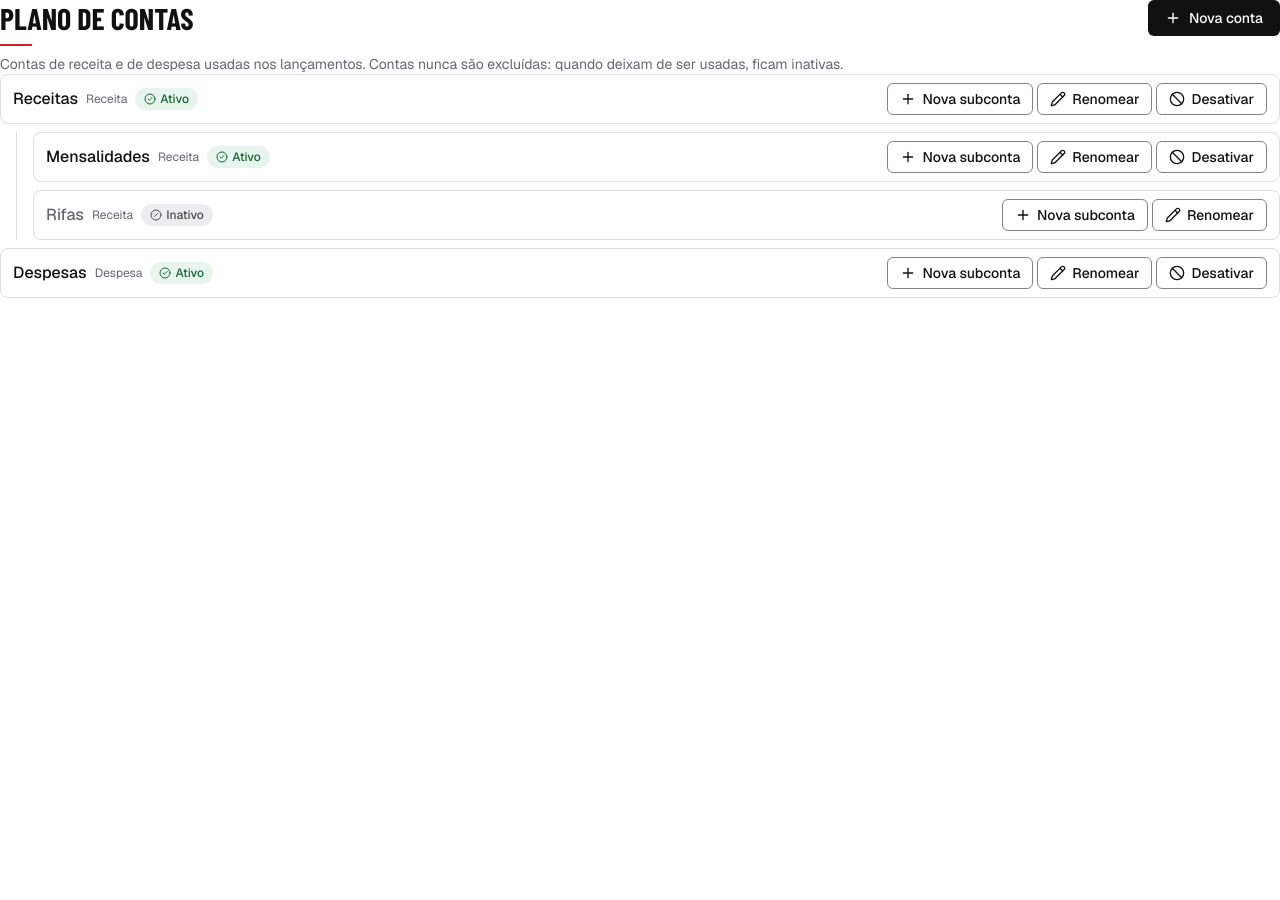
Scenario: criar conta › 422 conta_tipo_incompativel mostra a mensagem e não altera a árvore
Expected: the heading "Plano de contas" is shown, [0, 0, 194, 46]
Expected: the text "Receitas" is shown, [13, 87, 78, 111]
Click the button with aria-label "Nova subconta em Receitas" at (960, 99), box [888, 83, 1033, 115]
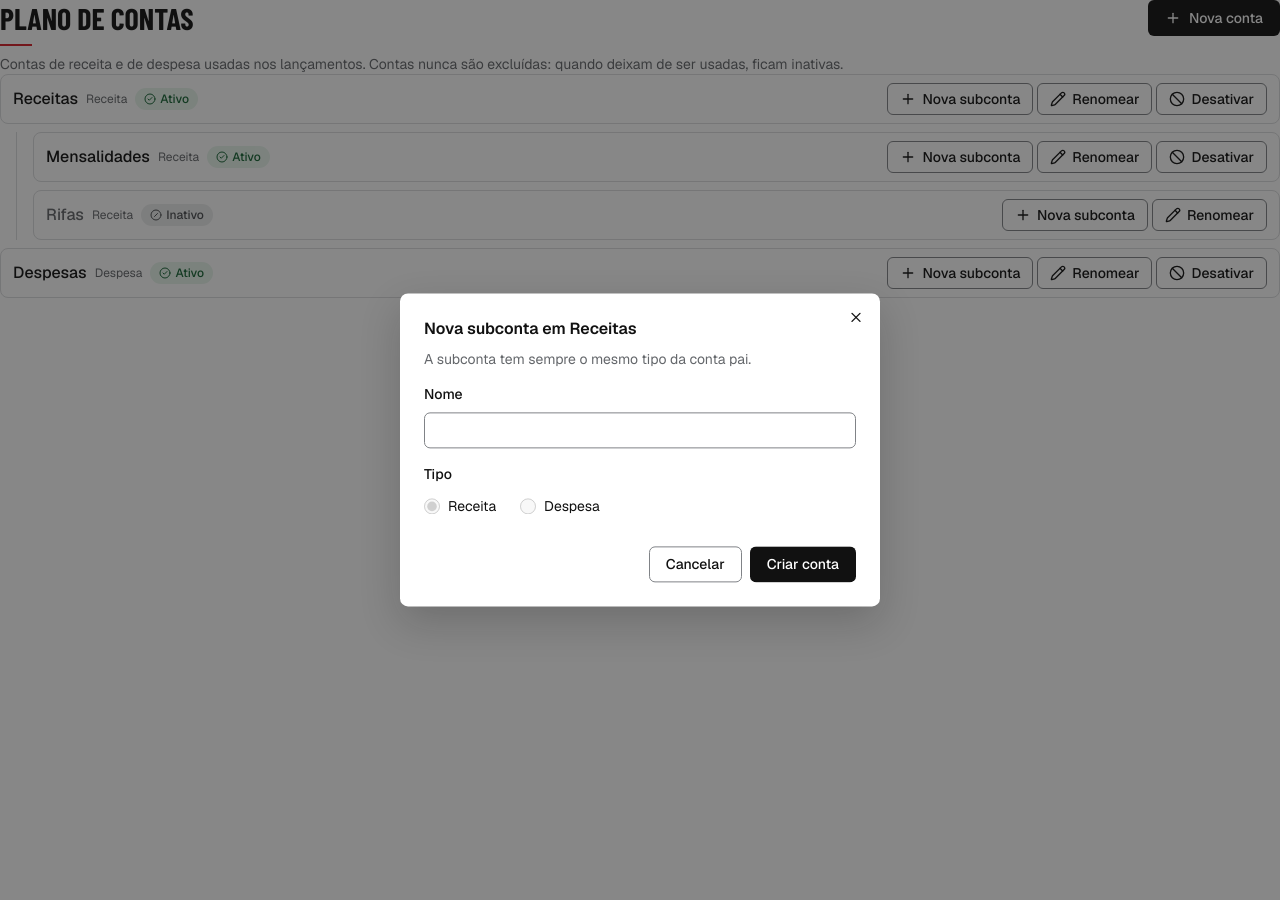
Type "Bilheteria" into the field labelled "Nome" at (640, 431), box [424, 413, 856, 449]
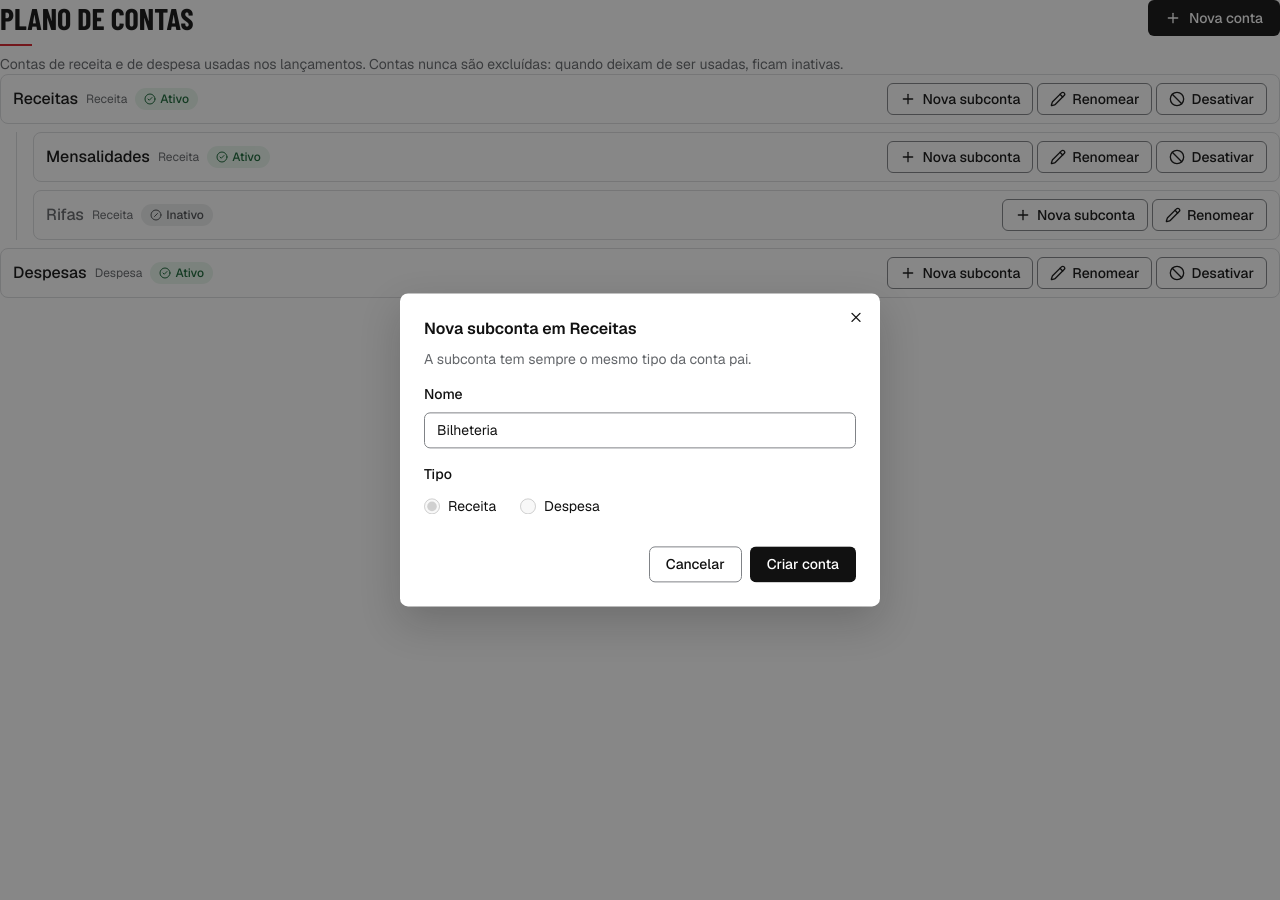
Click the button "Criar conta" at (803, 565), box [750, 547, 856, 583]
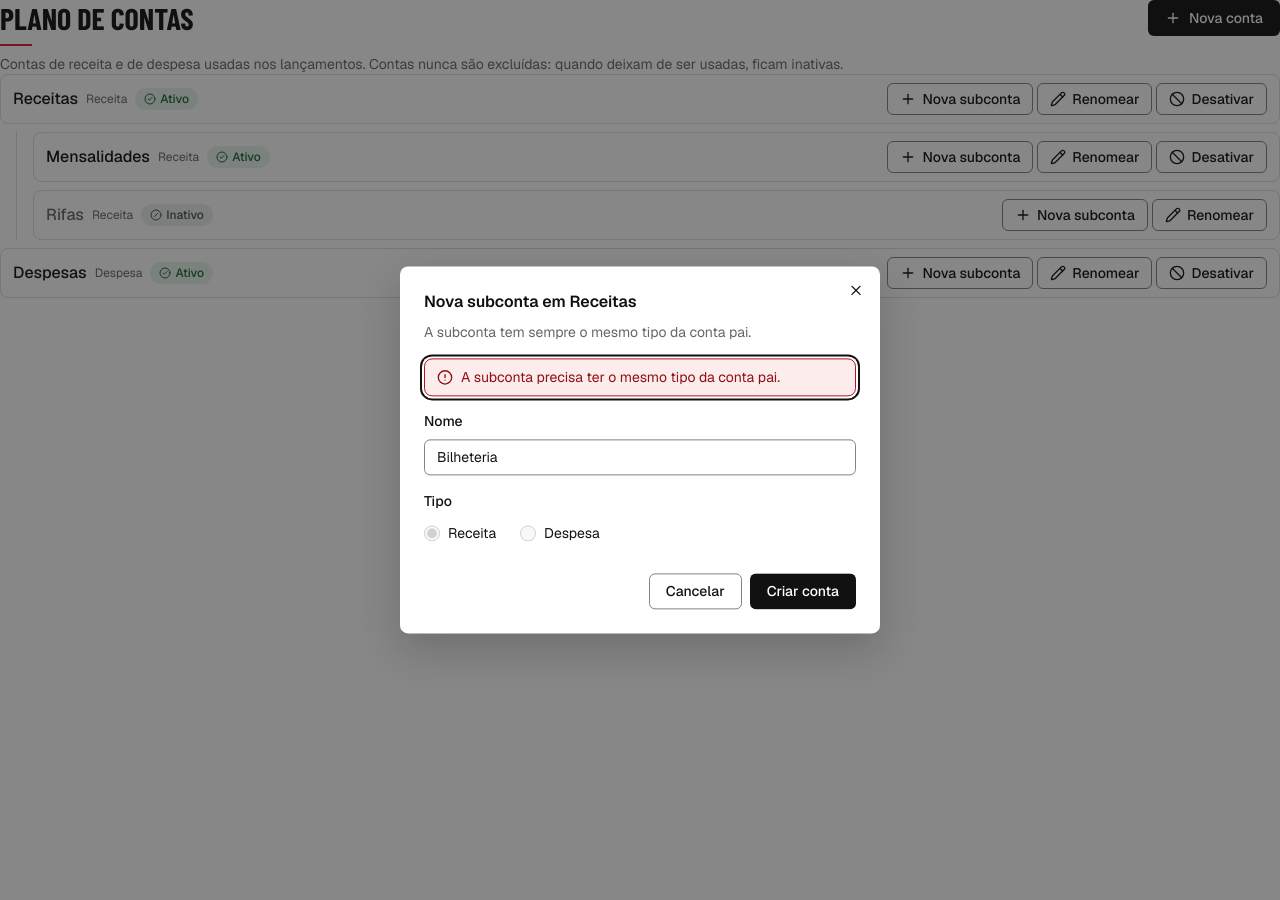
Now the text "A subconta precisa ter o mesmo tipo da conta pai." is shown, box [461, 368, 780, 386]
